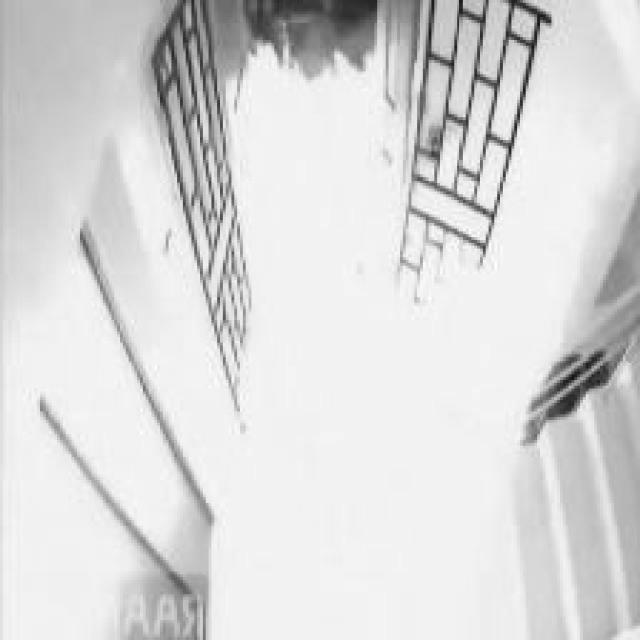smoke: (203, 40, 540, 634)
